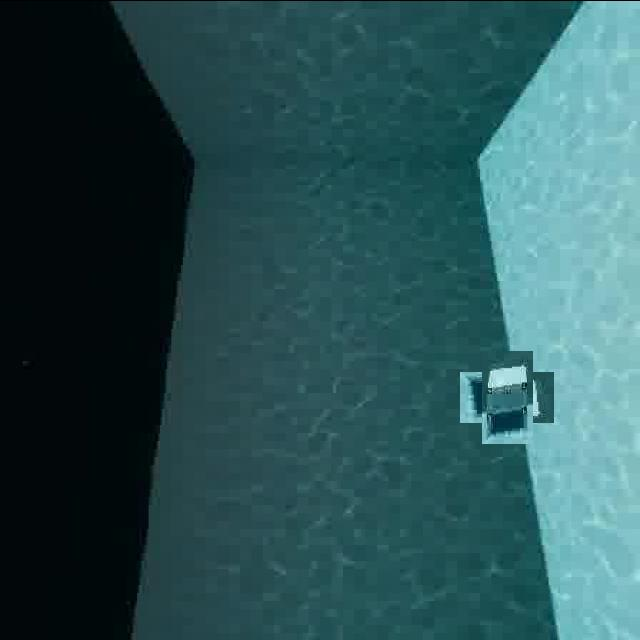Docking Station: (472, 360, 544, 432)
